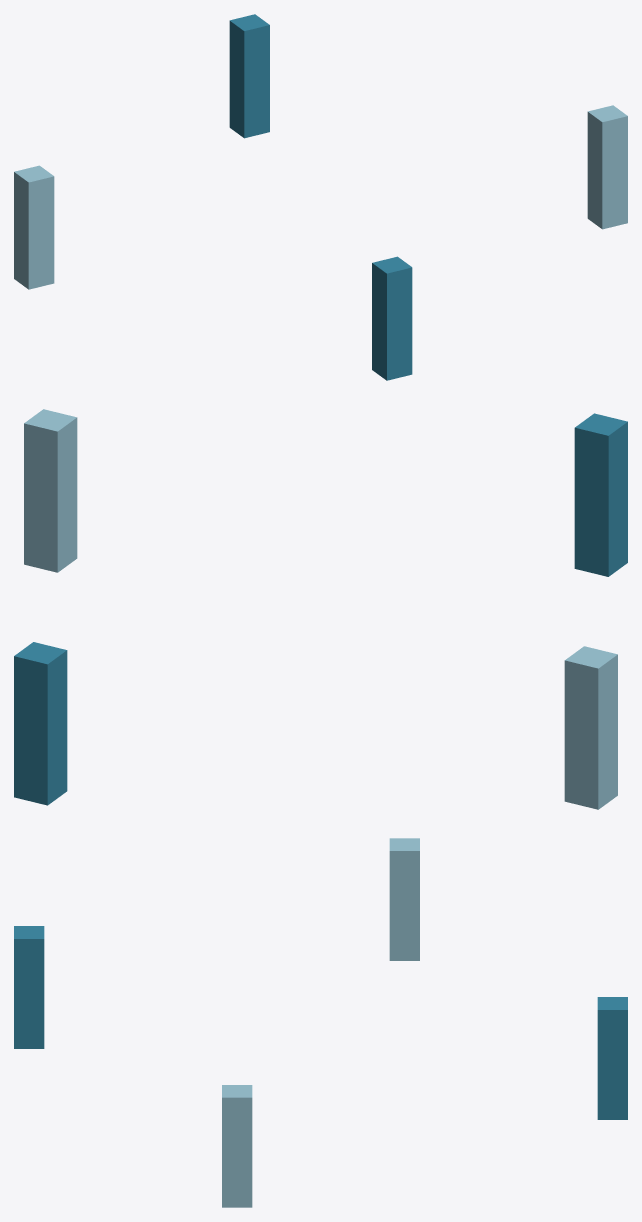
File: boundary.glb
3 views of the same model, one above another, from view 1: azimuth 30°, elevation 25°; view 2: azimuth 150°, elevation 25°; view 3: azimuth 270°, elevation 25° (orthographic). The views are drawn at different scales.
Visible parts, largest first — view 1: boundary_1, boundary_3, boundary_0, boundary_2; view 2: boundary_0, boundary_1, boundary_2, boundary_3; view 3: boundary_0, boundary_1, boundary_2, boundary_3.
Part boxes in pixels (x1,y1,x2,y2): boundary_1: (372,256,412,380); boundary_3: (229,14,269,138); boundary_0: (587,105,627,229); boundary_2: (14,165,54,289); boundary_0: (24,409,77,572); boundary_1: (574,413,627,576); boundary_2: (564,646,617,809); boundary_3: (14,642,67,805); boundary_0: (222,1085,252,1207); boundary_1: (14,926,44,1048); boundary_2: (389,838,419,960); boundary_3: (597,997,627,1119).
Size of what is drawn, in the model's own units: 17.19 by 3.4 by 17.19.
